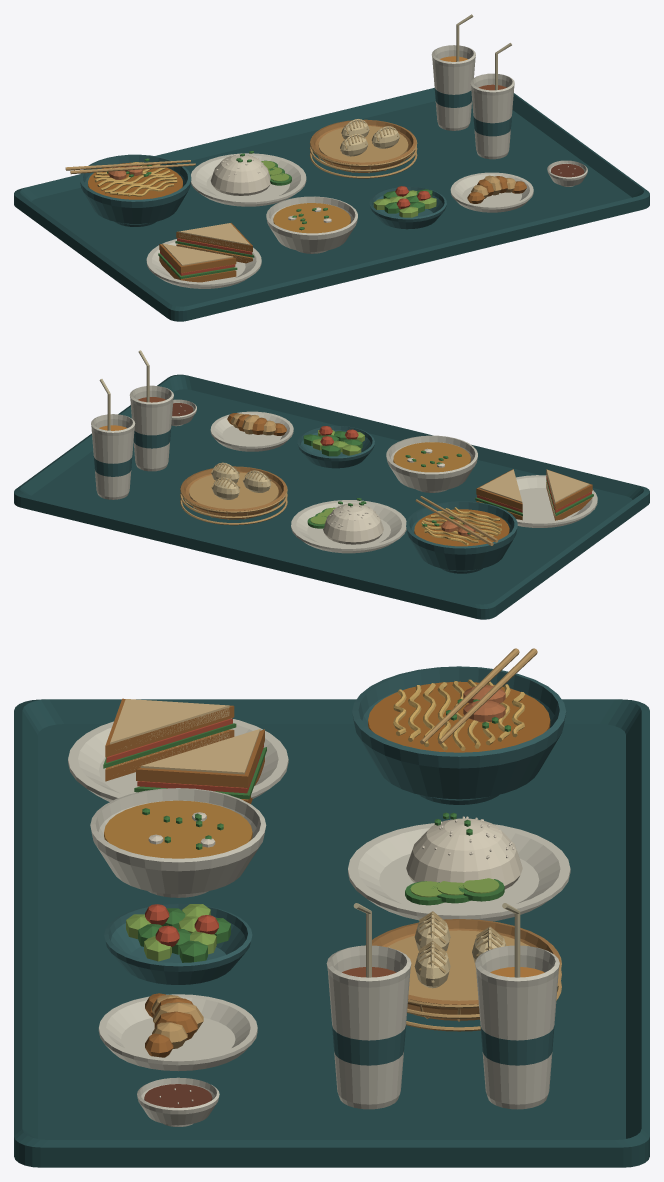
File: edited.glb
3 renders of one model, top to bottom at view 1: azimuth 30°, elevation 25°; view 2: azimuth 150°, elevation 25°; view 3: azimuth 270°, elevation 25°, orthographic. The views are drawn at different scales.
Visible parts, largest first — view 1: TRAY_Serving, DISH_Noodles_Chopsticks, DISH_Sandwich_Plate, DISH_Dumplings_Basket, DISH_Rice_Plate, DISH_Soup_Bowl, DRINK_Tea, DRINK_Citrus, DISH_Pastry_Plate, DISH_Salad_Bowl, DISH_Sauce_Ramekin; view 2: TRAY_Serving, DISH_Noodles_Chopsticks, DISH_Dumplings_Basket, DISH_Sandwich_Plate, DISH_Rice_Plate, DISH_Soup_Bowl, DRINK_Citrus, DRINK_Tea, DISH_Pastry_Plate, DISH_Salad_Bowl, DISH_Sauce_Ramekin; view 3: TRAY_Serving, DISH_Noodles_Chopsticks, DISH_Rice_Plate, DISH_Sandwich_Plate, DISH_Soup_Bowl, DRINK_Citrus, DRINK_Tea, DISH_Pastry_Plate, DISH_Dumplings_Basket, DISH_Salad_Bowl, DISH_Sauce_Ramekin.
Boxes of the visible parts, <box> form: TRAY_Serving: <box>14,88,649,321</box>; DISH_Noodles_Chopsticks: <box>65,154,195,226</box>; DISH_Sandwich_Plate: <box>146,223,261,288</box>; DISH_Dumplings_Basket: <box>309,119,417,178</box>; DISH_Rice_Plate: <box>191,151,306,206</box>; DISH_Soup_Bowl: <box>266,196,357,253</box>; DRINK_Tea: <box>470,43,514,159</box>; DRINK_Citrus: <box>431,14,475,130</box>; DISH_Pastry_Plate: <box>450,172,533,212</box>; DISH_Salad_Bowl: <box>369,186,446,229</box>; DISH_Sauce_Ramekin: <box>547,160,587,186</box>; TRAY_Serving: <box>14,374,649,619</box>; DISH_Noodles_Chopsticks: <box>406,496,517,573</box>; DISH_Dumplings_Basket: <box>180,462,287,525</box>; DISH_Sandwich_Plate: <box>475,469,597,527</box>; DISH_Rice_Plate: <box>291,498,406,553</box>; DISH_Soup_Bowl: <box>386,435,477,492</box>; DRINK_Citrus: <box>91,379,135,499</box>; DRINK_Tea: <box>129,350,173,471</box>; DISH_Pastry_Plate: <box>210,411,293,451</box>; DISH_Salad_Bowl: <box>297,425,374,468</box>; DISH_Sauce_Ramekin: <box>171,399,196,426</box>; TRAY_Serving: <box>14,699,649,1167</box>; DISH_Noodles_Chopsticks: <box>352,648,566,804</box>; DISH_Rice_Plate: <box>348,812,570,921</box>; DISH_Sandwich_Plate: <box>68,698,288,803</box>; DISH_Soup_Bowl: <box>90,788,266,897</box>; DRINK_Citrus: <box>475,903,559,1109</box>; DRINK_Tea: <box>326,903,411,1109</box>; DISH_Pastry_Plate: <box>98,993,257,1071</box>; DISH_Dumplings_Basket: <box>365,911,561,1031</box>; DISH_Salad_Bowl: <box>104,903,252,984</box>; DISH_Sauce_Ramekin: <box>137,1077,219,1126</box>.
Bounding box in the file's own units: 1 × 0.2292 × 0.6.
